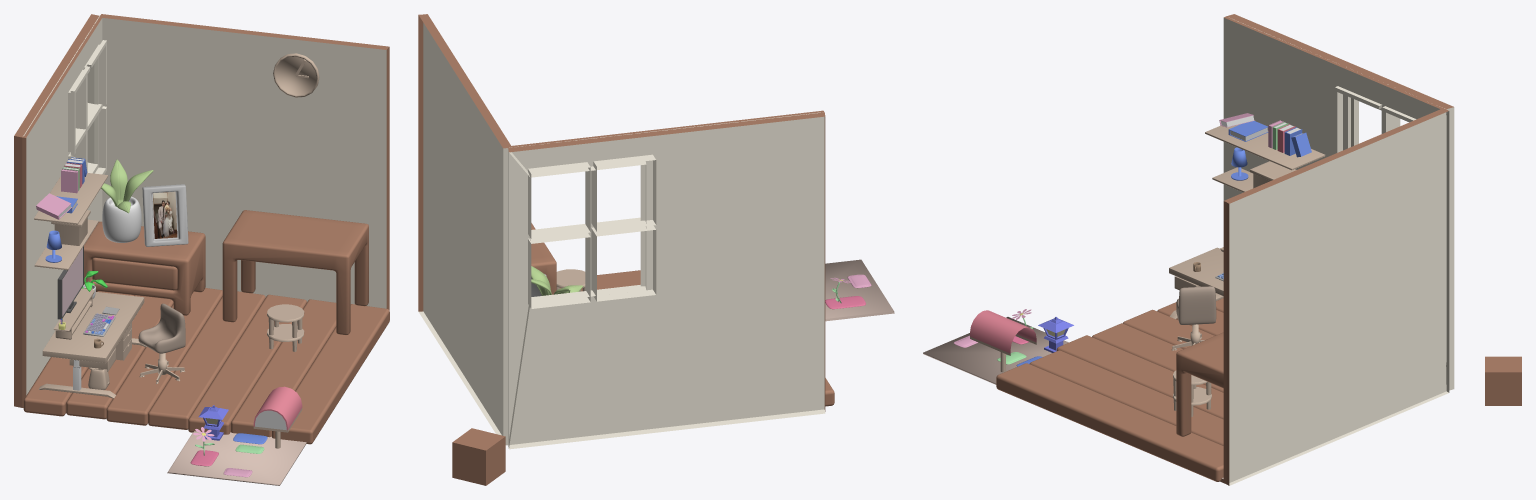
The model's file is prac6.glb.
3 renders of one model, left to right at view 1: azimuth 30°, elevation 25°; view 2: azimuth 150°, elevation 25°; view 3: azimuth 270°, elevation 25°, orthographic. The views are drawn at different scales.
Parts seen in each view (by area): view 1: Body, WoodFloor, Cube.009, Cube.010, Shelves, Desks, MiniFloor, Pic1, TableStuff, Mailbox, Clock, Chair (+6 smaller); view 2: Body, Cube, MiniFloor, WoodFloor, Cube.009, Desks.001; view 3: Body, WoodFloor, Shelves, Cube.009, MiniFloor, Mailbox, Cube, Desks, Chair, Desks.001, Lamp.
Part boxes in pixels (x1,y1,x2,y2): Body: (14,14,389,407); WoodFloor: (23,288,389,444); Cube.009: (222,210,368,334); Cube.010: (84,221,205,315); Shelves: (34,157,108,270); Desks: (38,292,146,398); MiniFloor: (167,431,306,485); Pic1: (142,184,188,246); TableStuff: (53,271,119,339); Mailbox: (253,386,302,448); Clock: (273,53,319,97); Chair: (138,303,185,353); Body: (418,14,825,449); Cube: (452,428,505,485); MiniFloor: (825,259,894,321); WoodFloor: (560,270,834,406); Cube.009: (531,223,556,294); Desks.001: (556,269,585,291); Body: (1220,14,1454,485); WoodFloor: (996,298,1223,481); Shelves: (1205,113,1325,192); Cube.009: (1176,332,1223,436); MiniFloor: (923,317,1068,384); Mailbox: (970,310,1036,372); Cube: (1485,356,1521,405); Desks: (1169,247,1223,319); Chair: (1176,286,1216,324); Desks.001: (1173,370,1211,416); Lamp: (1038,317,1073,352).
Size of the model in its own units: 24.25 by 17.22 by 32.32.
Materials: 36 (1 with a texture image).
